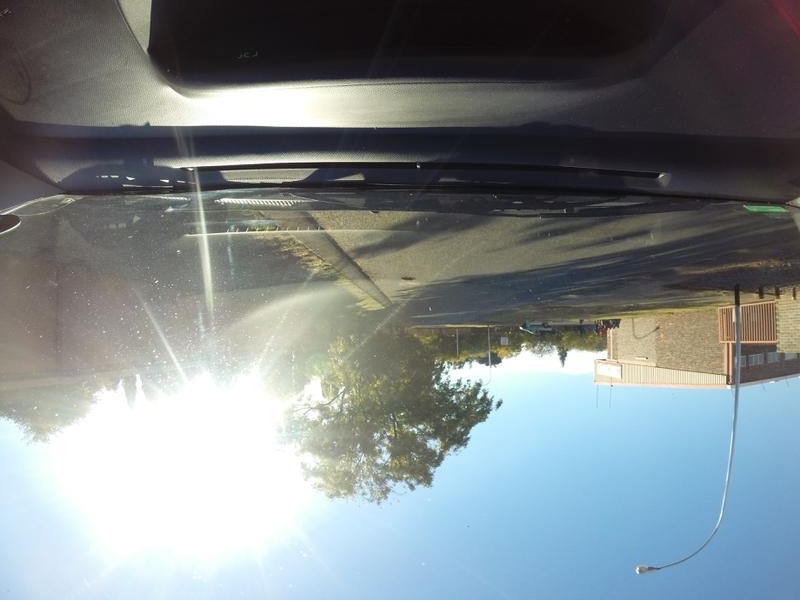pothole: (392, 272, 437, 286)
